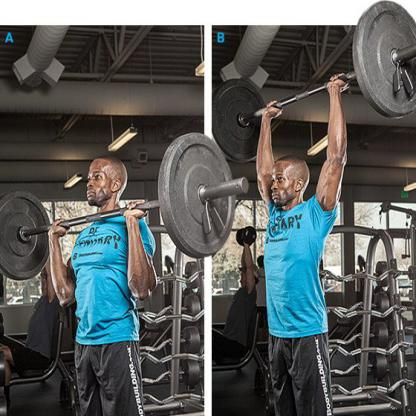Barbell: (155, 129, 252, 263)
